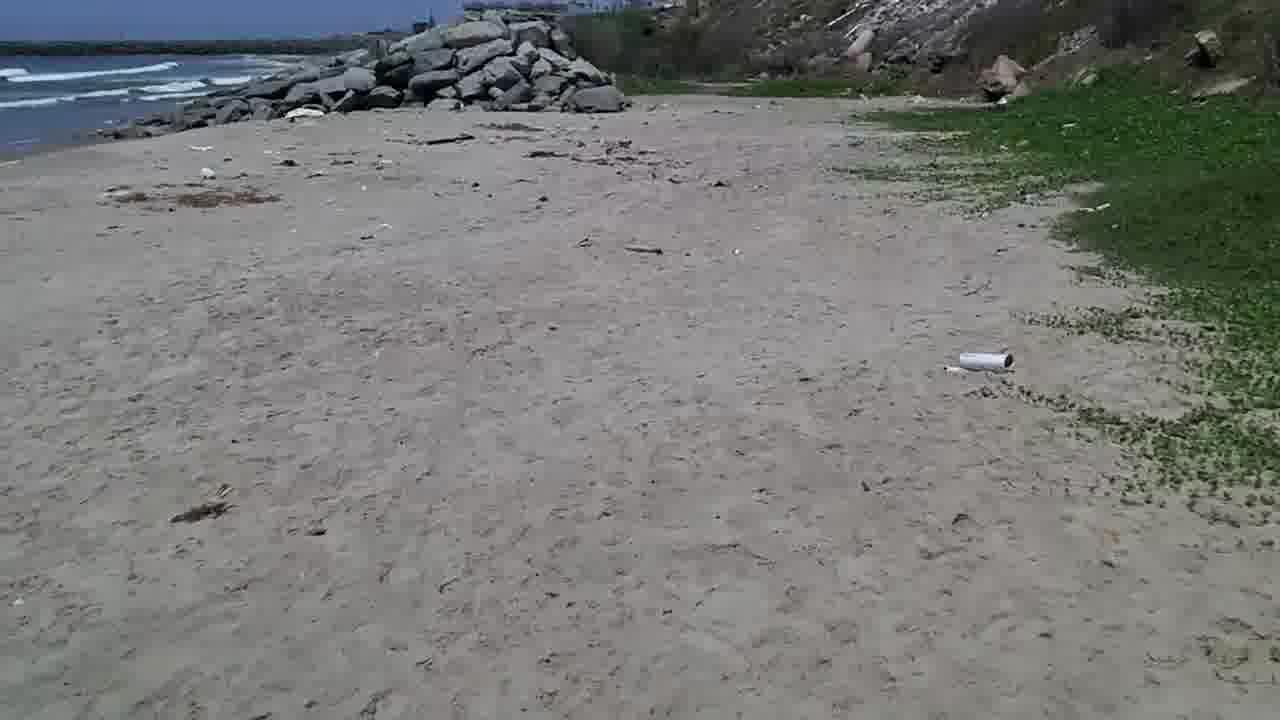obj: (855, 59, 1279, 524), (192, 132, 230, 194), (938, 350, 1018, 375), (620, 242, 671, 256), (280, 107, 332, 120)
sand/background: (1, 0, 1279, 177)
